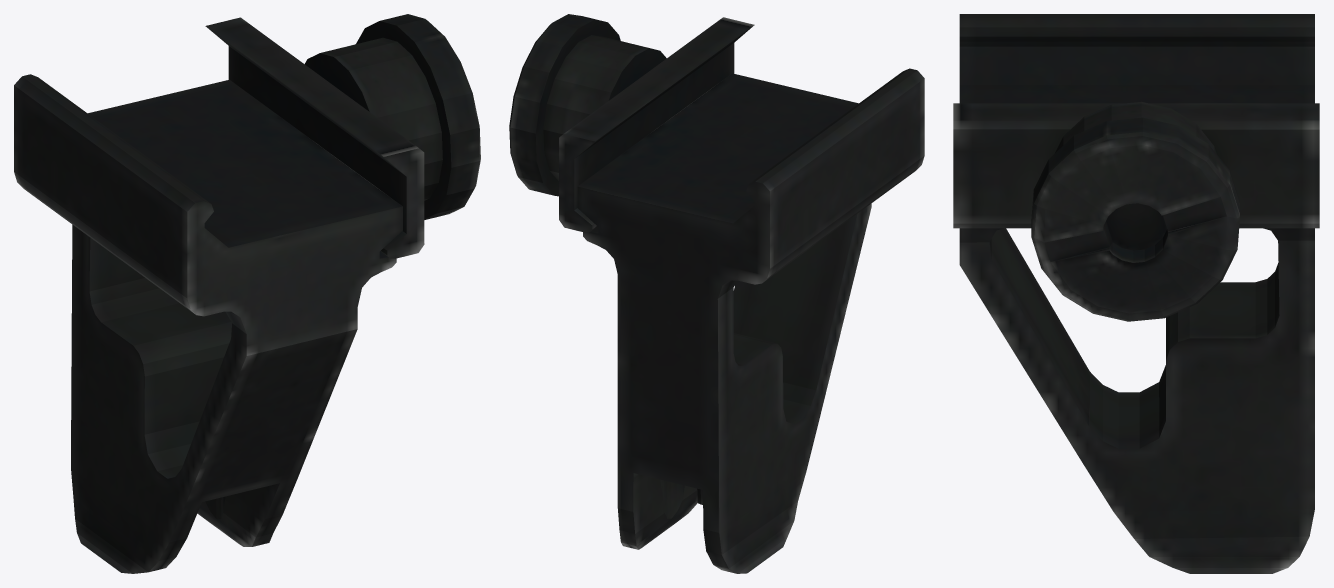
The picture shows the model from 3 angles, left to right: view 1: azimuth 30°, elevation 25°; view 2: azimuth 150°, elevation 25°; view 3: azimuth 270°, elevation 25°; orthographic projection. The views are drawn at different scales.
Parts seen in each view (by area): view 1: TW_55d4af3a4bdc2d972f8b456f_PZ_Import; view 2: TW_55d4af3a4bdc2d972f8b456f_PZ_Import; view 3: TW_55d4af3a4bdc2d972f8b456f_PZ_Import.
Boxes of the visible parts, box(x1,y1,x2,y2) form: TW_55d4af3a4bdc2d972f8b456f_PZ_Import: box(14, 14, 480, 573); TW_55d4af3a4bdc2d972f8b456f_PZ_Import: box(509, 14, 924, 573); TW_55d4af3a4bdc2d972f8b456f_PZ_Import: box(953, 14, 1319, 573).
Bounding box in the file's own units: 0.0211 × 0.0192 × 0.0298.
Materials: 1 (1 with a texture image).
